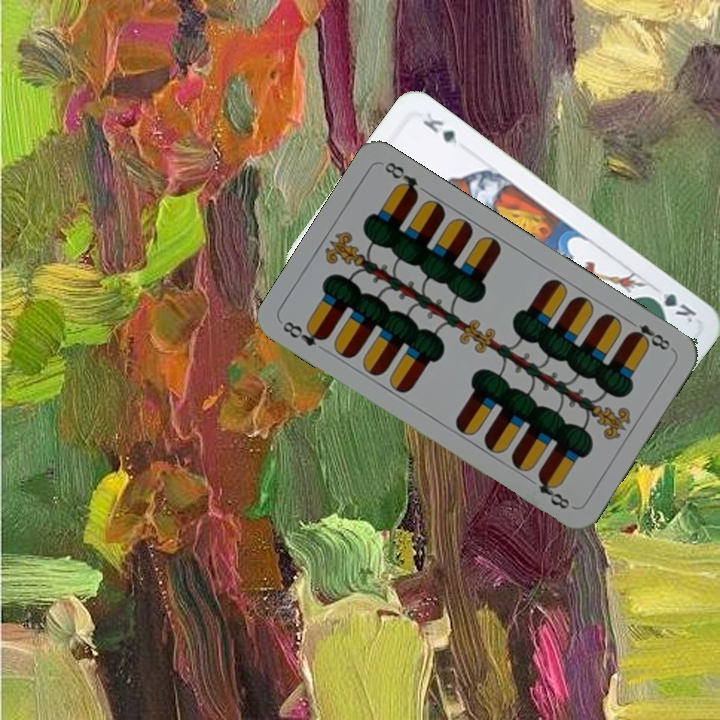E8: (623, 315, 673, 353), (278, 317, 330, 349)
GK: (644, 285, 700, 326)
